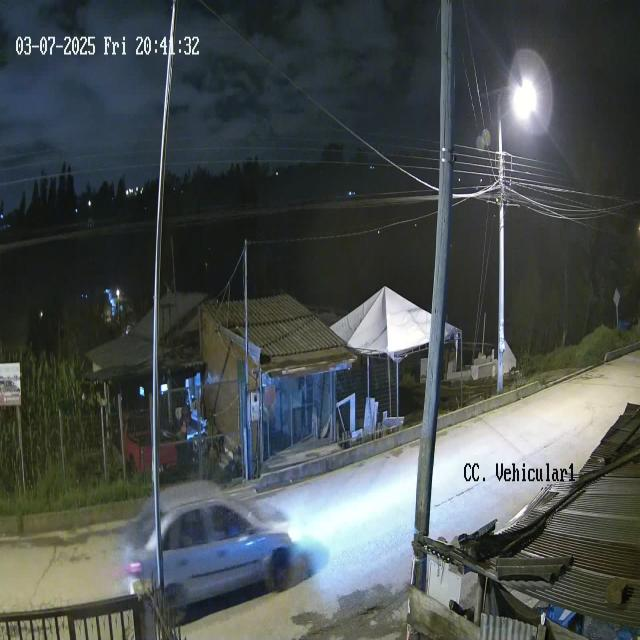SED: (124, 478, 300, 619)
